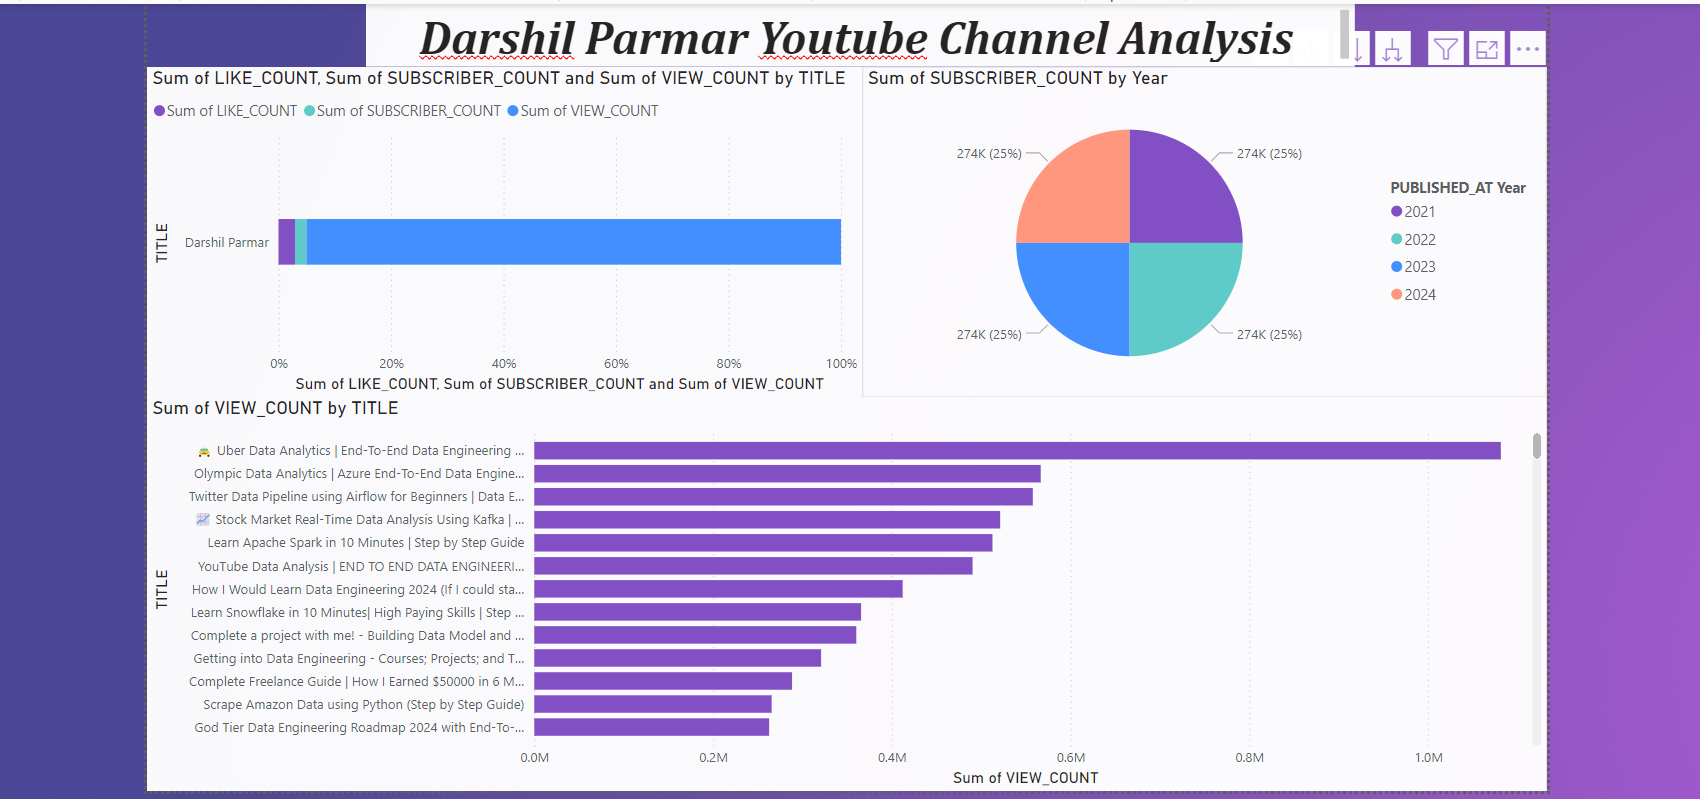

The dashboard page shown, as its layout file describes it:
{"tool":"powerbi","page":{"name":"Page 1","canvas":[1280,720],"ordinal":0},"visuals":[{"type":"clusteredBarChart","fields":{"Category":["VIDEO_RAW_TABLE.TITLE"],"Y":["VIDEO_RAW_TABLE.VIEW_COUNT"]},"box":[0,359.5,1280.4,360.9],"z":0},{"type":"hundredPercentStackedBarChart","fields":{"Category":["CHANNEL_RAW_TABLE.TITLE"],"Y":["VIDEO_RAW_TABLE.LIKE_COUNT","CHANNEL_RAW_TABLE.SUBSCRIBER_COUNT","VIDEO_RAW_TABLE.VIEW_COUNT"]},"box":[0,57.6,654.6,301.9],"z":1000},{"type":"pieChart","fields":{"Category":["VIDEO_RAW_TABLE.PUBLISHED_AT.Variation.Date Hierarchy.Year","VIDEO_RAW_TABLE.PUBLISHED_AT.Variation.Date Hierarchy.Quarter","VIDEO_RAW_TABLE.PUBLISHED_AT.Variation.Date Hierarchy.Month","VIDEO_RAW_TABLE.PUBLISHED_AT.Variation.Date Hierarchy.Day"],"Y":["CHANNEL_RAW_TABLE.SUBSCRIBER_COUNT"]},"box":[654.6,57.6,625.8,301.9],"z":2000},{"type":"textbox","box":[200.4,0,904.4,57.6],"z":3000}]}

Visuals, with their boxes in screenshot pixels (x1, y1, x2, y2):
clusteredBarChart - VIDEO_RAW_TABLE.TITLE x VIDEO_RAW_TABLE.VIEW_COUNT: x1=142, y1=388, x2=1539, y2=782
hundredPercentStackedBarChart - CHANNEL_RAW_TABLE.TITLE x VIDEO_RAW_TABLE.LIKE_COUNT: x1=142, y1=58, x2=856, y2=388
pieChart - VIDEO_RAW_TABLE.PUBLISHED_AT.Variation.Date Hierarchy.Year x VIDEO_RAW_TABLE.PUBLISHED_AT.Variation.Date Hierarchy.Quarter: x1=856, y1=58, x2=1539, y2=388
textbox: x1=360, y1=0, x2=1348, y2=58
